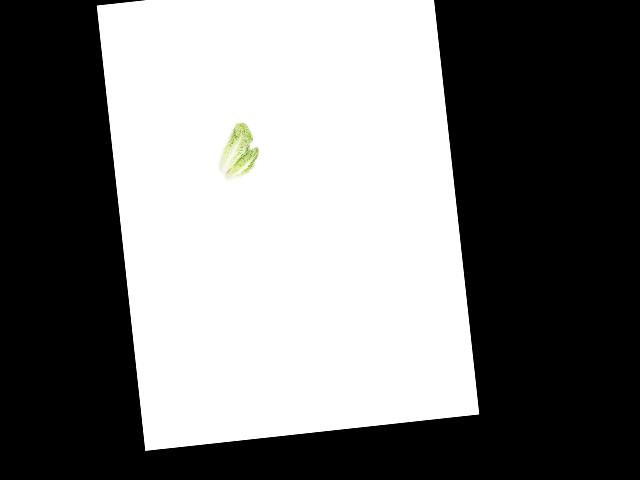lettuce: (212, 121, 257, 170)
